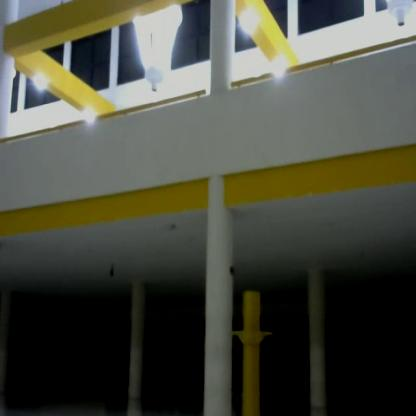pole: (226, 282, 279, 416)
